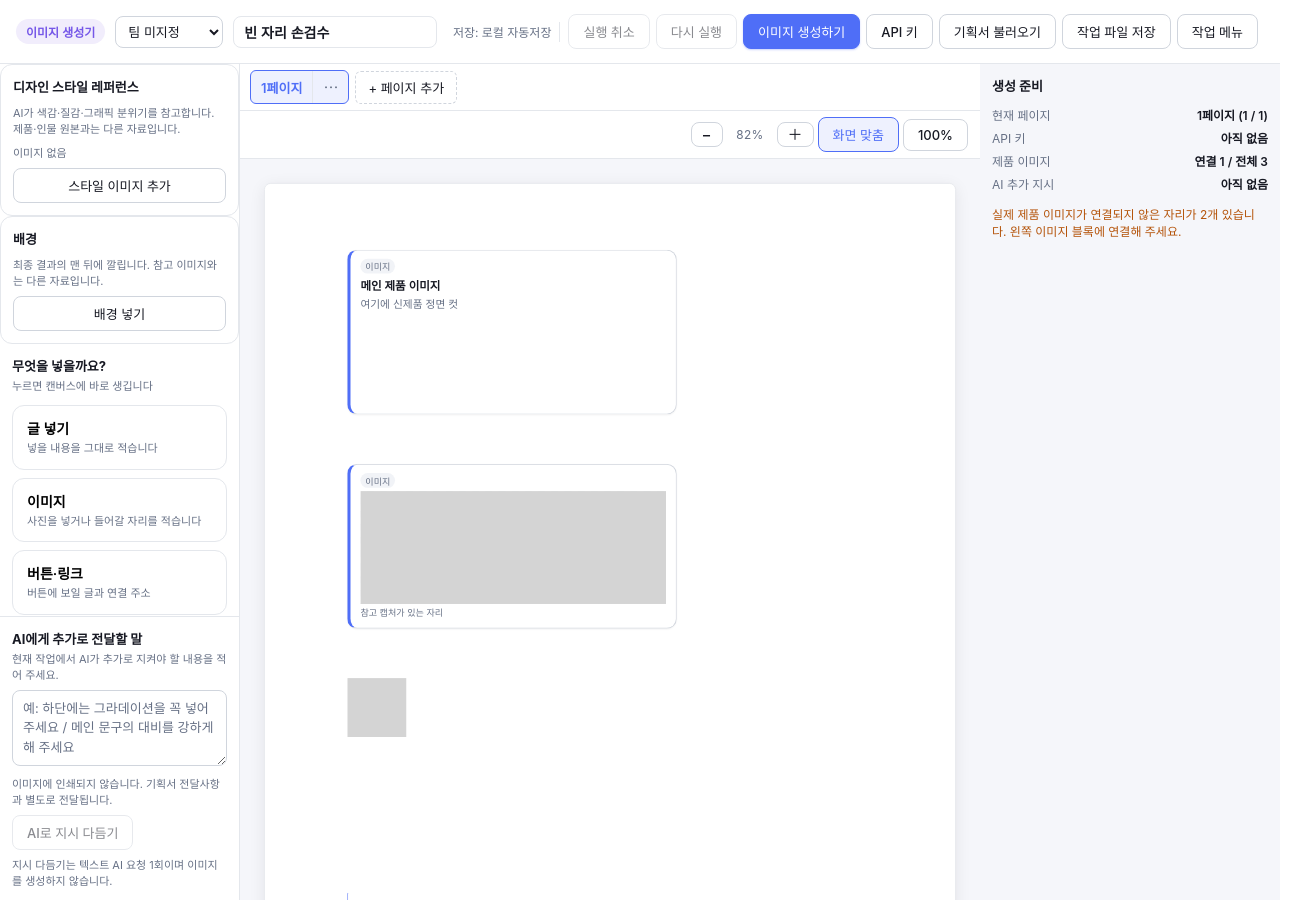
Test: Patch 2 §9·§10 빈 이미지 블록 더블클릭 › leaves the ⋯ menu working as before
Check: the field with class "editor-topbar__title" holds "빈 자리 손검수", box [233, 16, 437, 48]
Press the mouse on the button with class "block-card" showing "이미지 메인 제품 이미지 여기에 신제품 정면 컷" at (378, 266), box [347, 250, 677, 414]
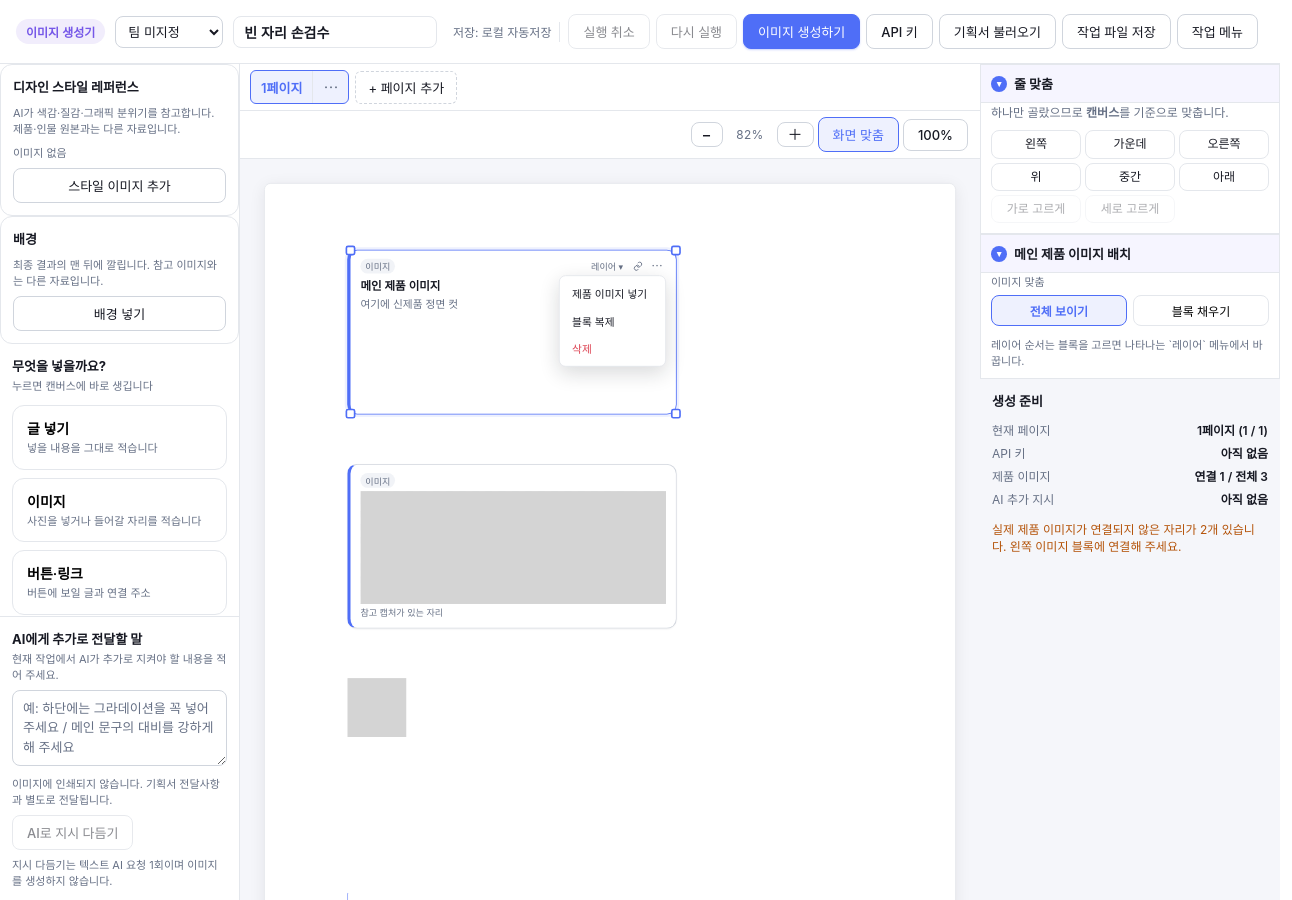
Check: the element with class "block-card__menu" is shown, box [648, 260, 666, 272]
Check: the element with class "block-card__menu" shows "제품 이미지", box [564, 280, 661, 307]
